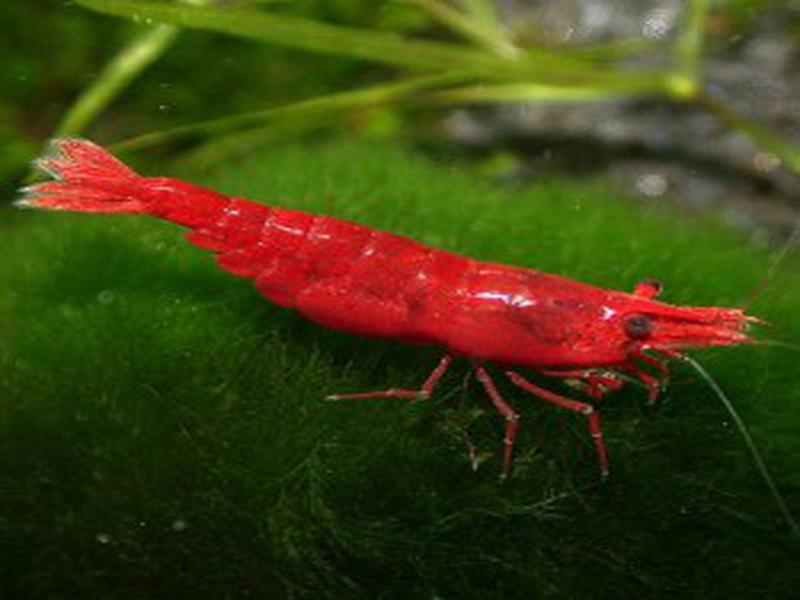shrimp: (15, 132, 773, 467)
